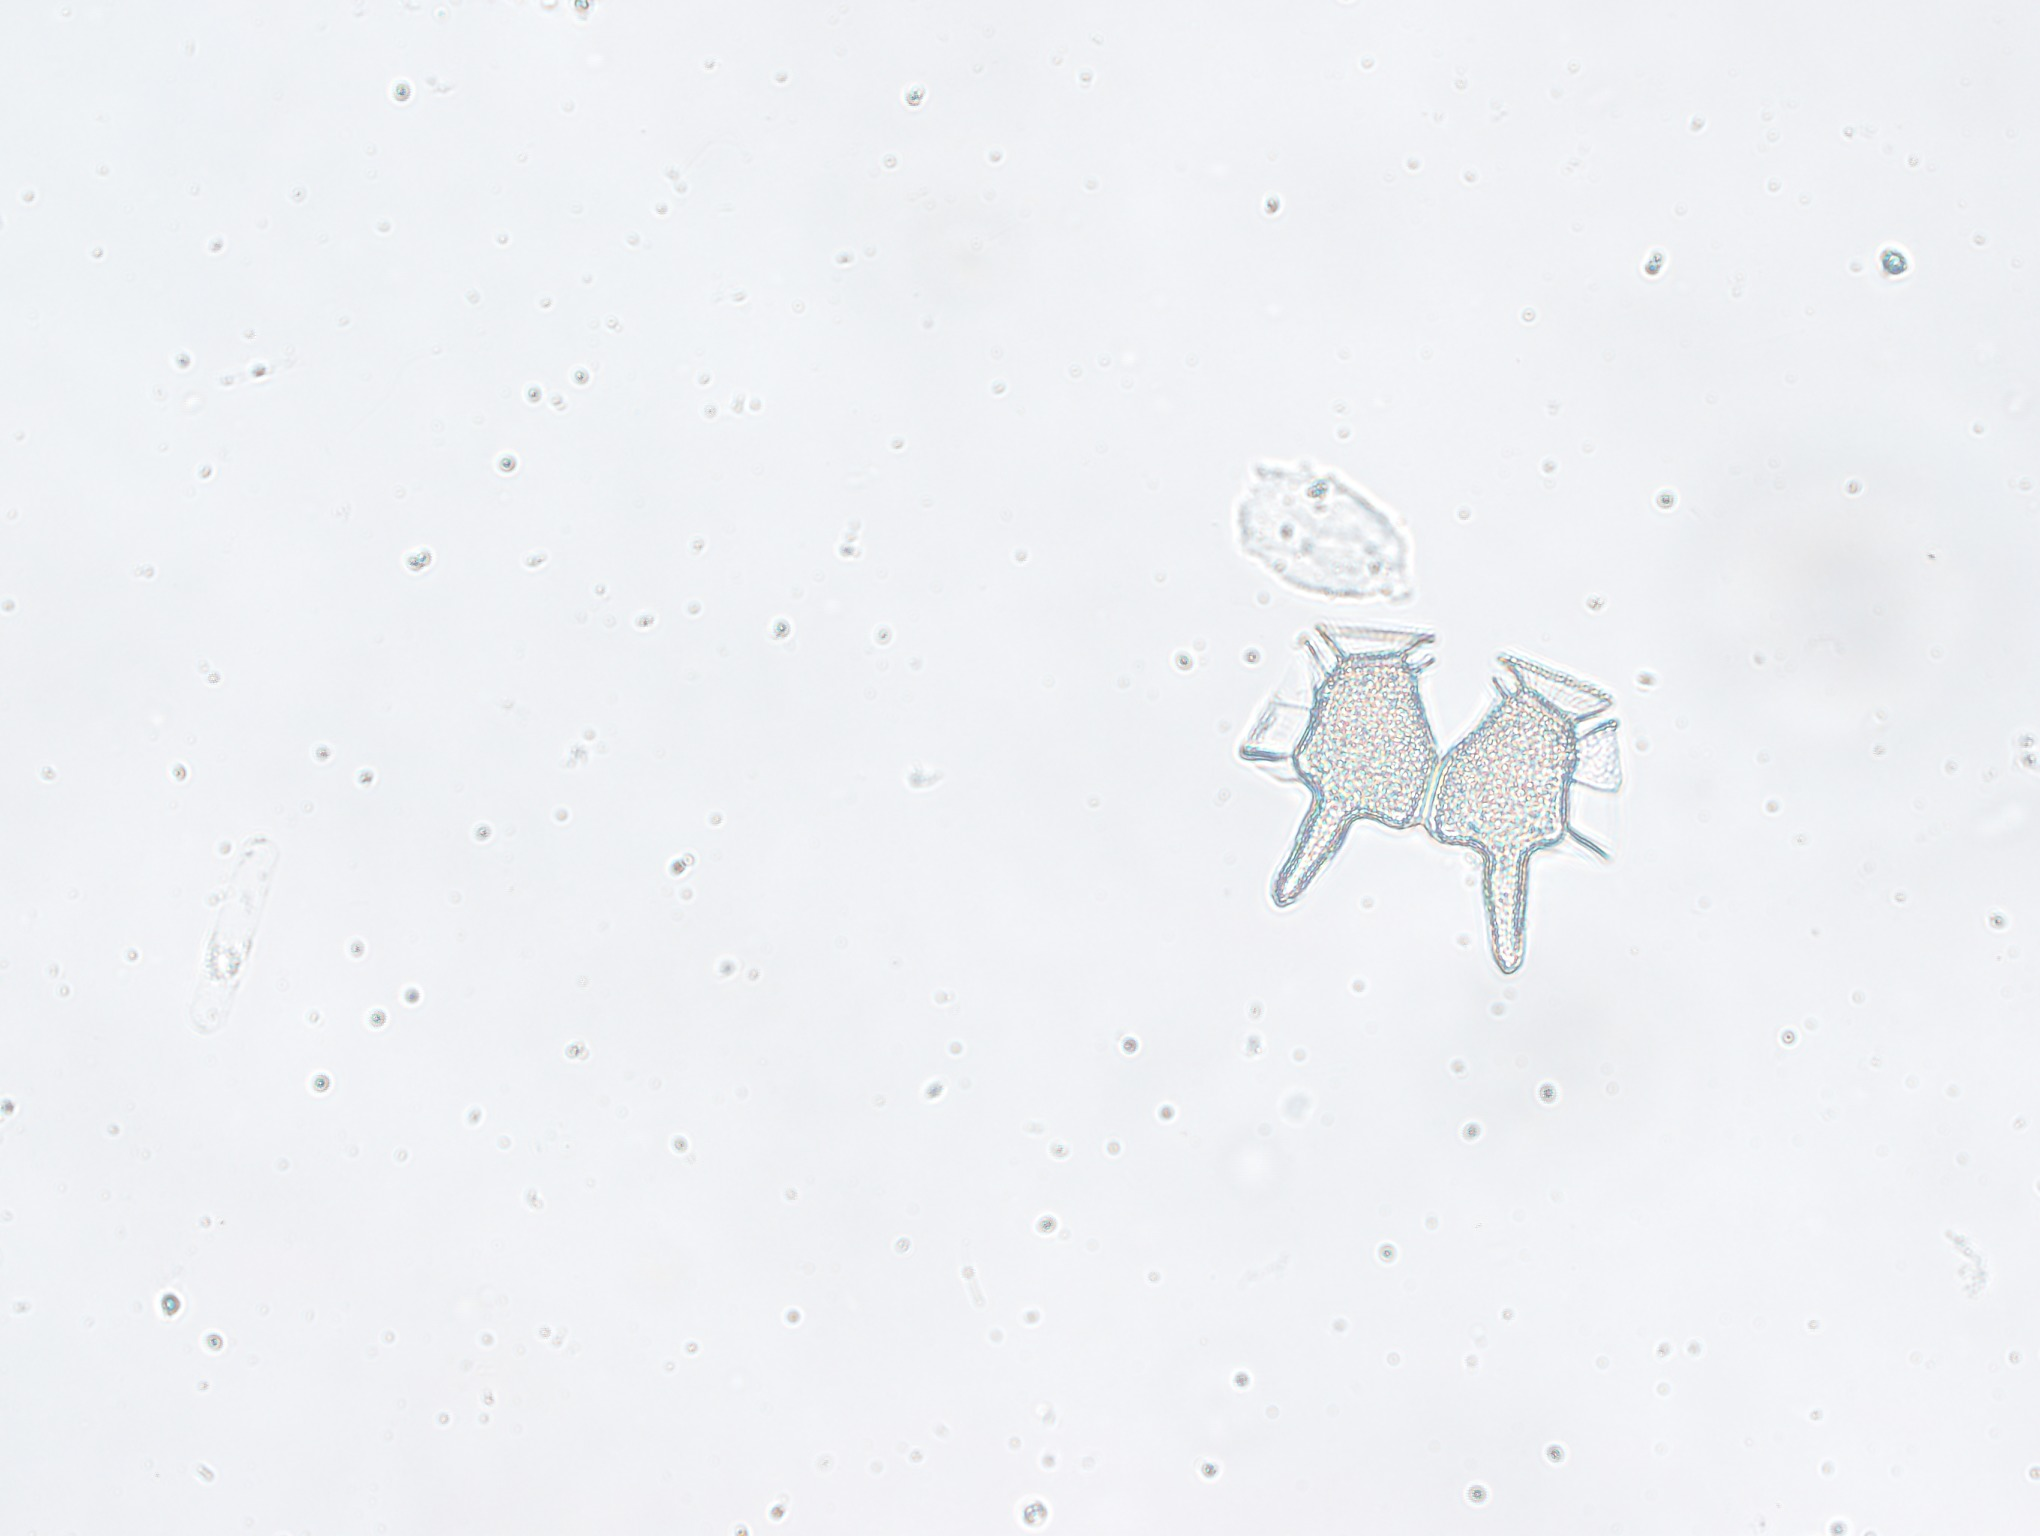dinophysis caudata: (1230, 623, 1630, 976)
